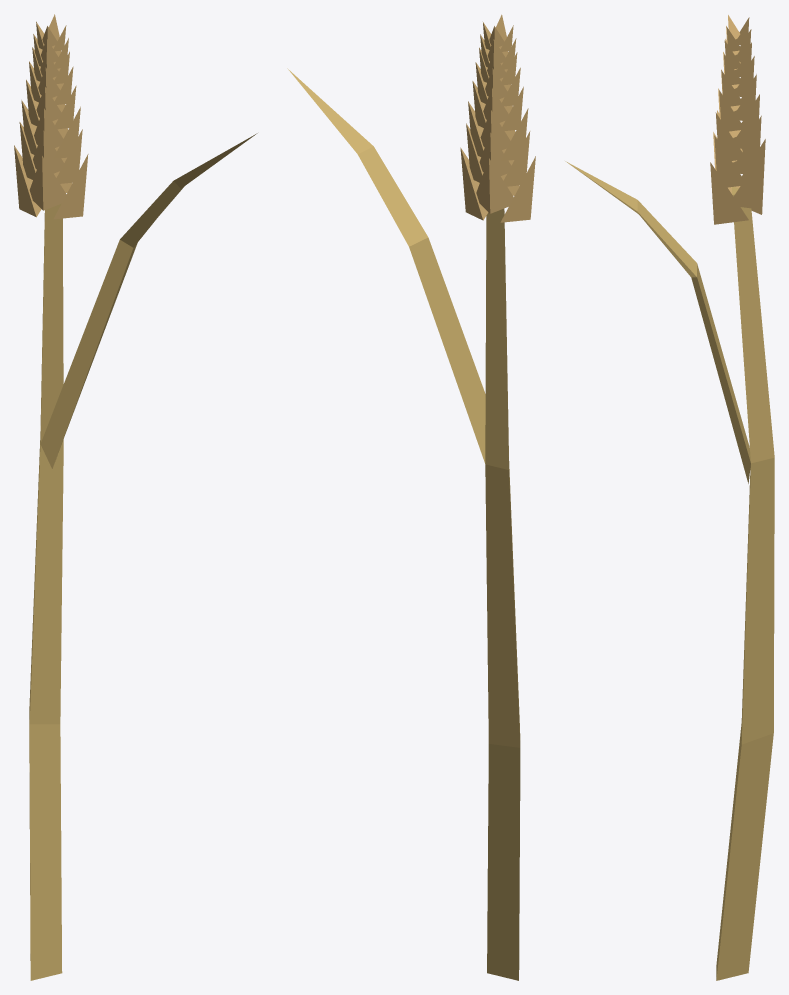
The model's file is wheat3.fbx.
3 views of the same model, side by side, from view 1: azimuth 30°, elevation 25°; view 2: azimuth 210°, elevation 25°; view 3: azimuth 270°, elevation 25° (orthographic).
Parts seen in each view (by area): view 1: Cylinder.005; view 2: Cylinder.005; view 3: Cylinder.005.
Part boxes in pixels (<box>): Cylinder.005: <box>14,14,257,980</box>; Cylinder.005: <box>287,14,535,980</box>; Cylinder.005: <box>565,15,774,980</box>.
Size of the model in its own units: 8.42 by 49.57 by 9.83.
